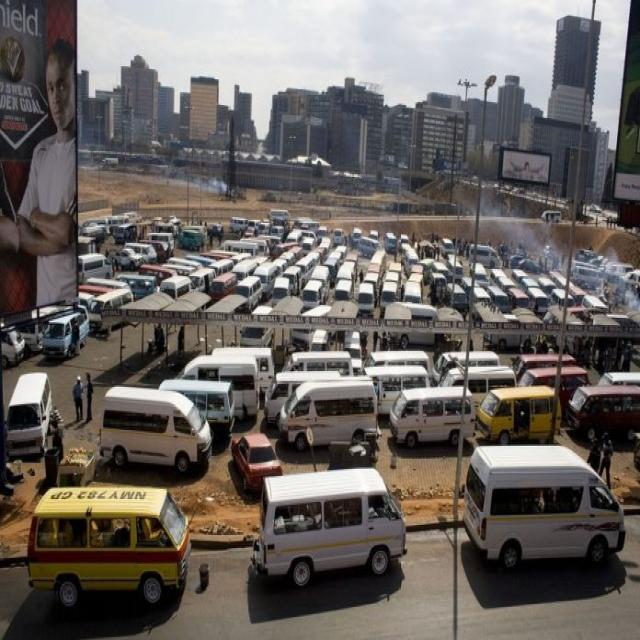MiniBus taxi: (460, 442, 626, 570), (27, 486, 196, 610), (251, 466, 419, 588), (98, 387, 222, 472), (273, 375, 379, 453), (388, 384, 476, 447), (480, 384, 564, 442), (5, 371, 53, 465), (568, 382, 640, 438), (40, 305, 94, 364), (72, 374, 82, 420), (85, 374, 94, 424)
